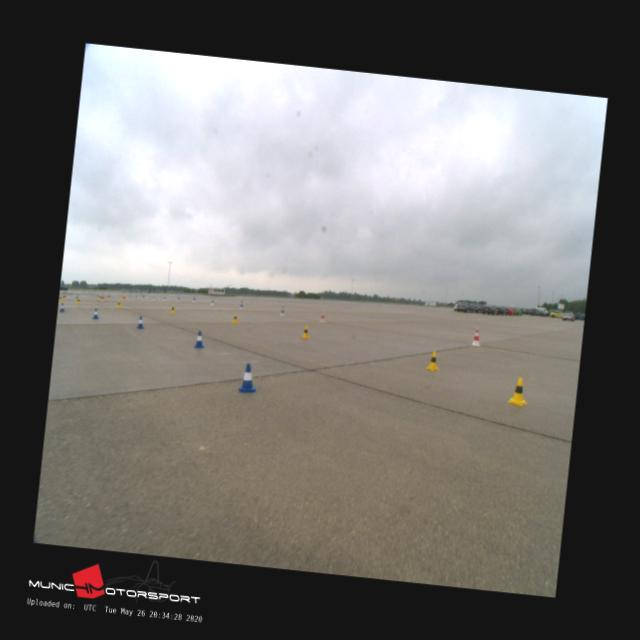blue_cone: (238, 363, 257, 392), (193, 330, 206, 347), (136, 316, 144, 328), (92, 308, 100, 318), (59, 302, 65, 312)
yellow_cone: (506, 376, 528, 405), (425, 350, 440, 370), (300, 325, 310, 338), (232, 312, 238, 323), (170, 304, 176, 312), (76, 296, 81, 304), (116, 300, 120, 308)
